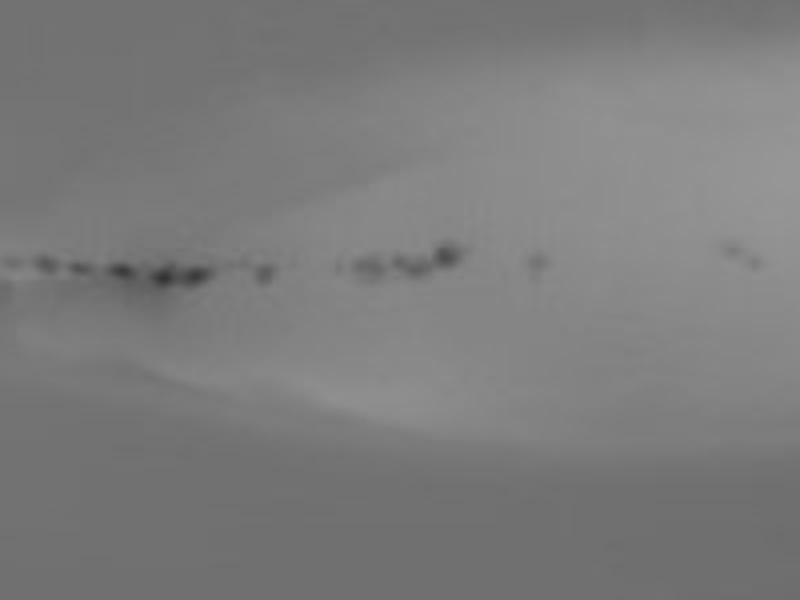defect: (394, 249, 435, 280), (99, 259, 144, 285), (433, 239, 468, 271), (527, 247, 556, 285), (351, 249, 385, 280), (173, 265, 213, 289), (35, 252, 62, 279), (251, 263, 277, 288), (147, 266, 177, 287), (2, 247, 25, 271), (328, 249, 343, 280), (723, 231, 743, 254), (64, 262, 90, 278), (747, 252, 766, 269)
